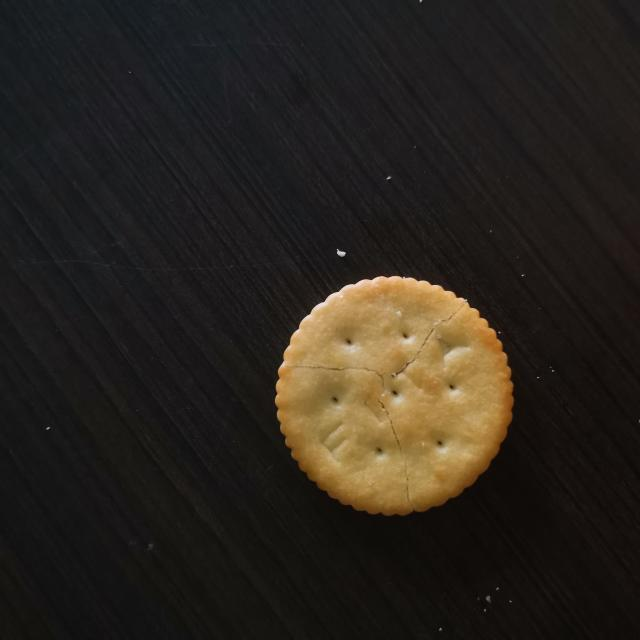Fracture: (279, 299, 467, 511)
